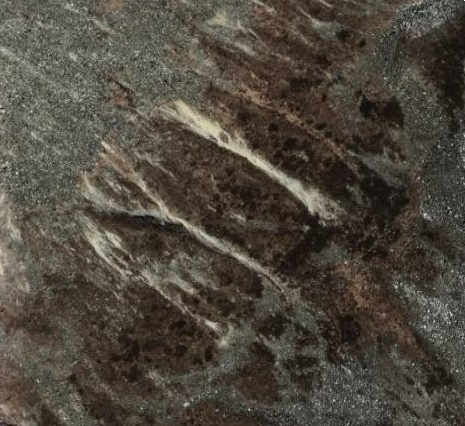slope: (72, 138, 303, 352), (149, 96, 347, 228)
